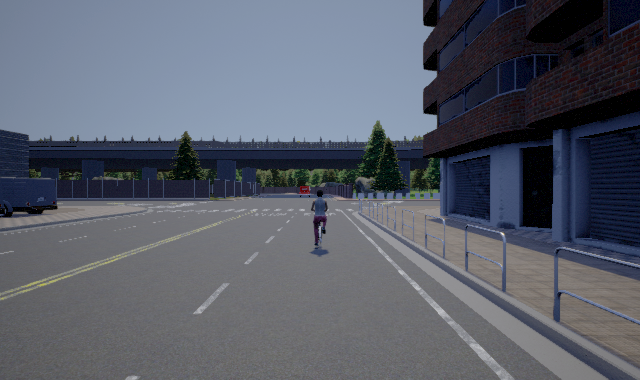bike: (310, 190, 331, 251)
vehicle: (1, 177, 58, 217)
